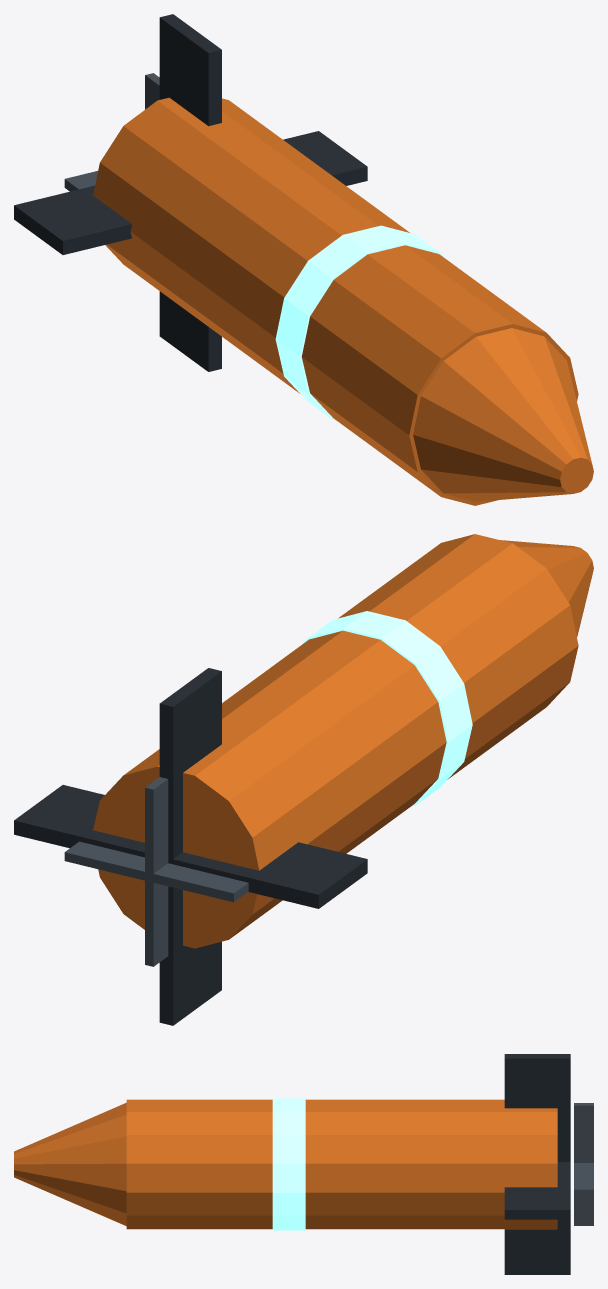
Rendered from arena_proj_torpedo.glb.
3 views of the same model, one above another, from view 1: azimuth 30°, elevation 25°; view 2: azimuth 150°, elevation 25°; view 3: azimuth 270°, elevation 25° (orthographic). The views are drawn at different scales.
Parts seen in each view (by area): view 1: body, fins, band, screw; view 2: body, fins, screw, band; view 3: body, fins, band, screw.
Boxes of the visible parts, x1,y1,x2,y2 form: body: (93,97,593,505); fins: (14,14,367,371); band: (275,225,446,420); screw: (64,73,159,191); body: (93,534,593,948); fins: (14,668,367,1025); screw: (64,777,248,966); band: (302,611,472,806); body: (14,1099,557,1229); fins: (504,1054,570,1274); band: (272,1098,305,1230); screw: (574,1103,593,1225).
Size of the model in its own units: 3.6 by 3.6 by 8.75.
